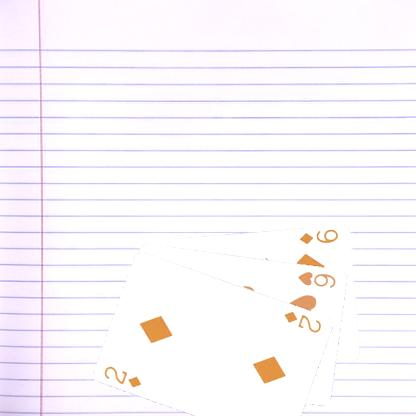2D: (282, 308, 324, 334), (101, 362, 143, 388)
6H: (295, 268, 338, 289)
9D: (297, 226, 340, 245)
